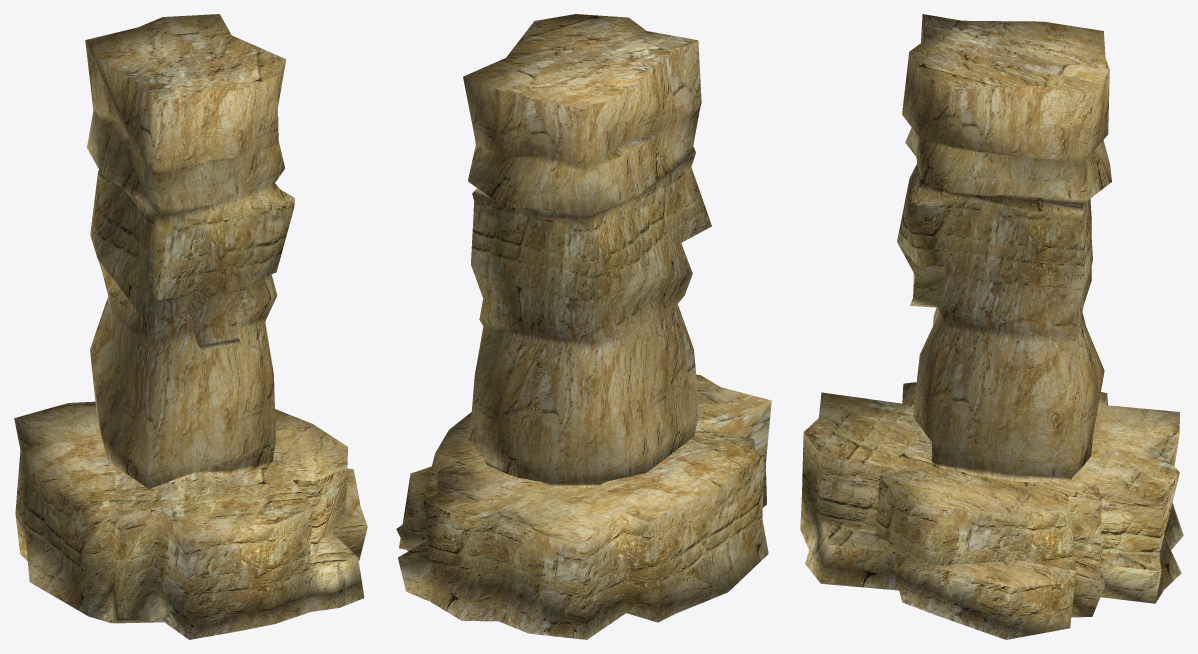
Rendered from pillar1.dae.
The picture shows the model from 3 angles, left to right: view 1: azimuth 30°, elevation 25°; view 2: azimuth 150°, elevation 25°; view 3: azimuth 270°, elevation 25°; orthographic projection.
Visible parts, largest first — view 1: rock0; view 2: rock0; view 3: rock0.
Boxes of the visible parts, left/top/right/bottom form: rock0: left=14, top=14, right=367, bottom=639; rock0: left=396, top=14, right=771, bottom=639; rock0: left=800, top=14, right=1183, bottom=639.
Bounding box in the file's own units: 2.42 × 2.47 × 3.65.
